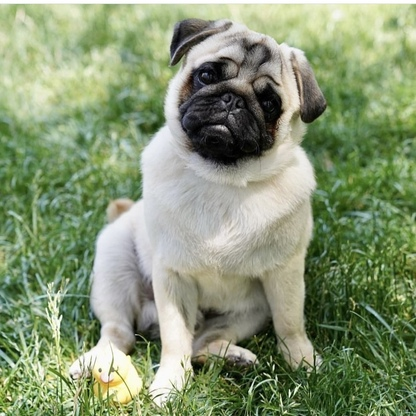Pug: (64, 14, 331, 410)
